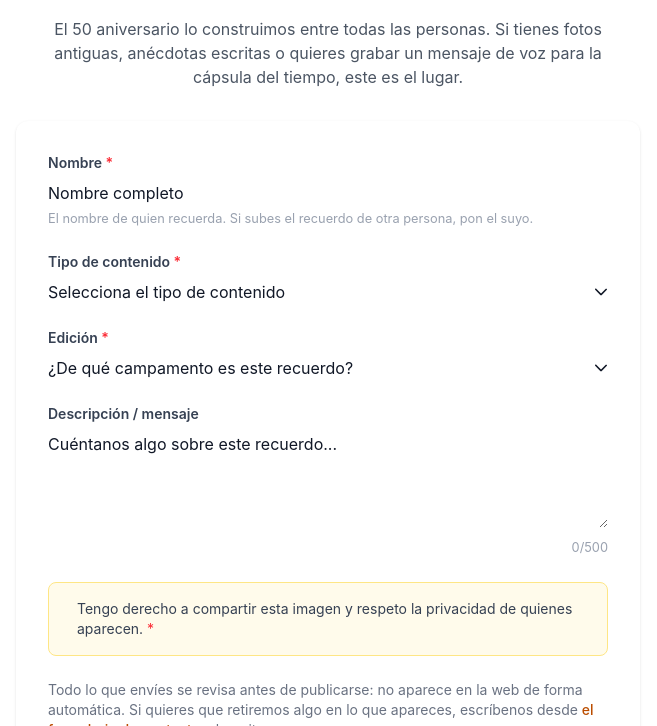
AnniversaryUploadForm › validation › should show validation error when content type not selected
Type "Test User" into the field with id "upload-name" at (328, 193), box [48,181,608,205]
(page scrolled)
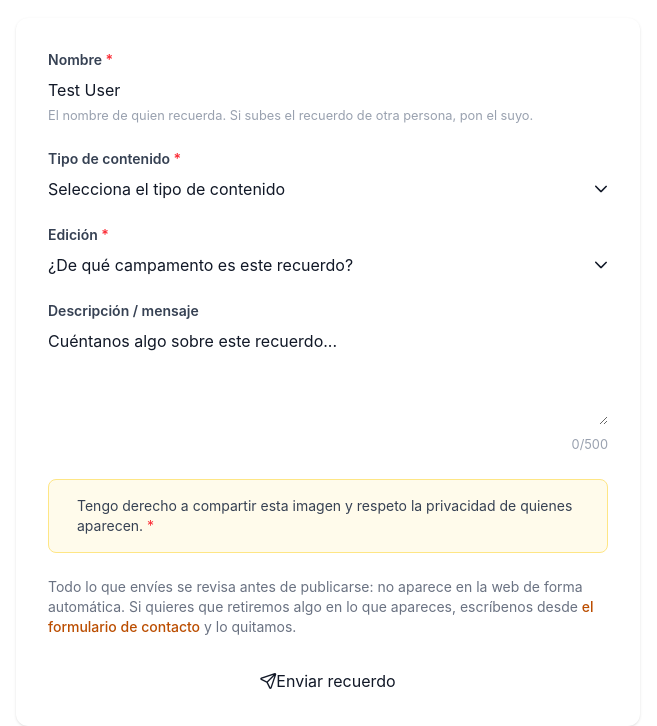
Submit the form
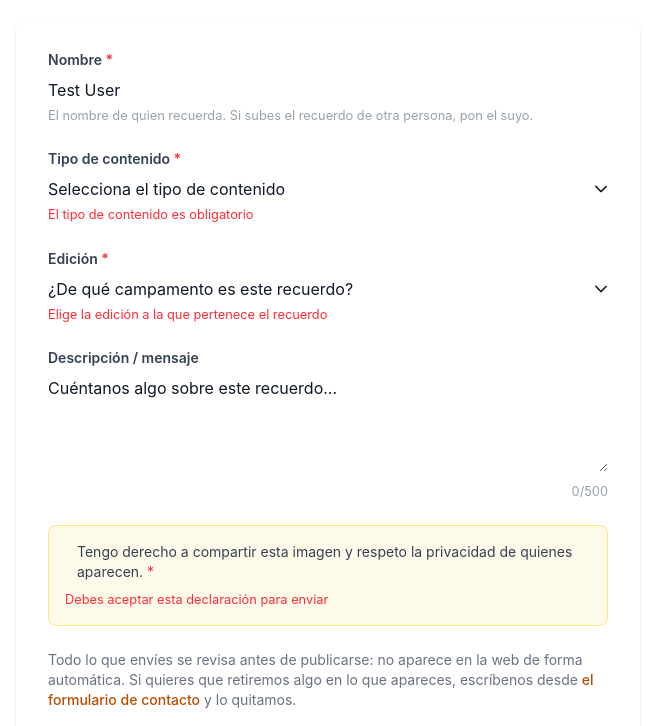
Expected: the text "El tipo de contenido es obligatorio" is shown, [48,207,254,222]
